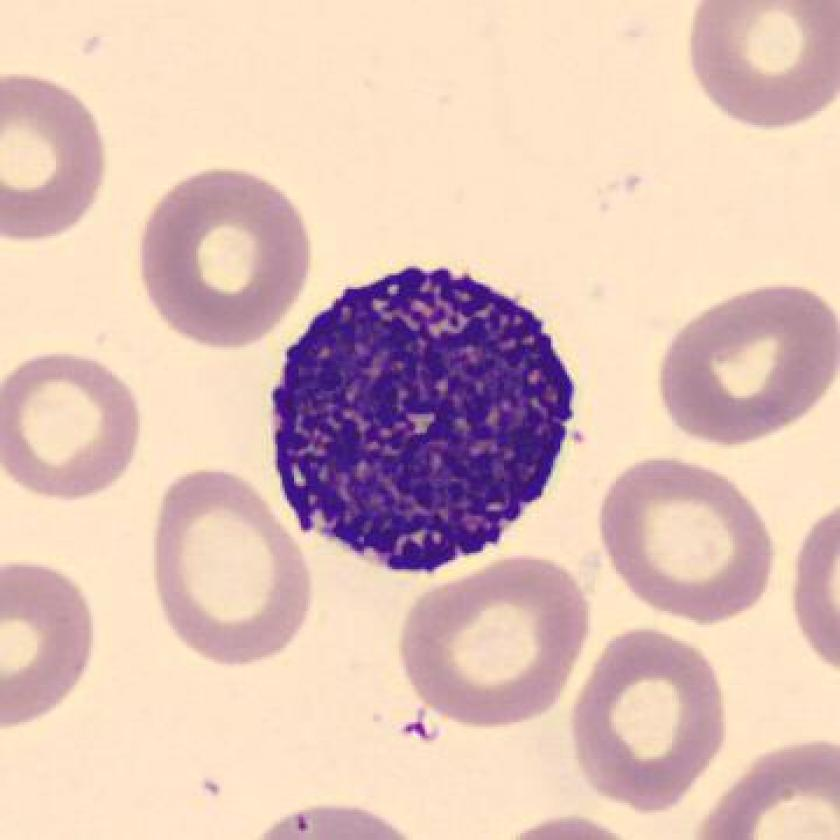basophil: (265, 253, 577, 589)
